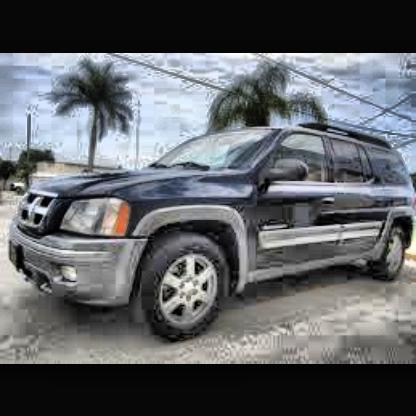Isuzu Ascender SUV 2008: (9, 122, 415, 343)
